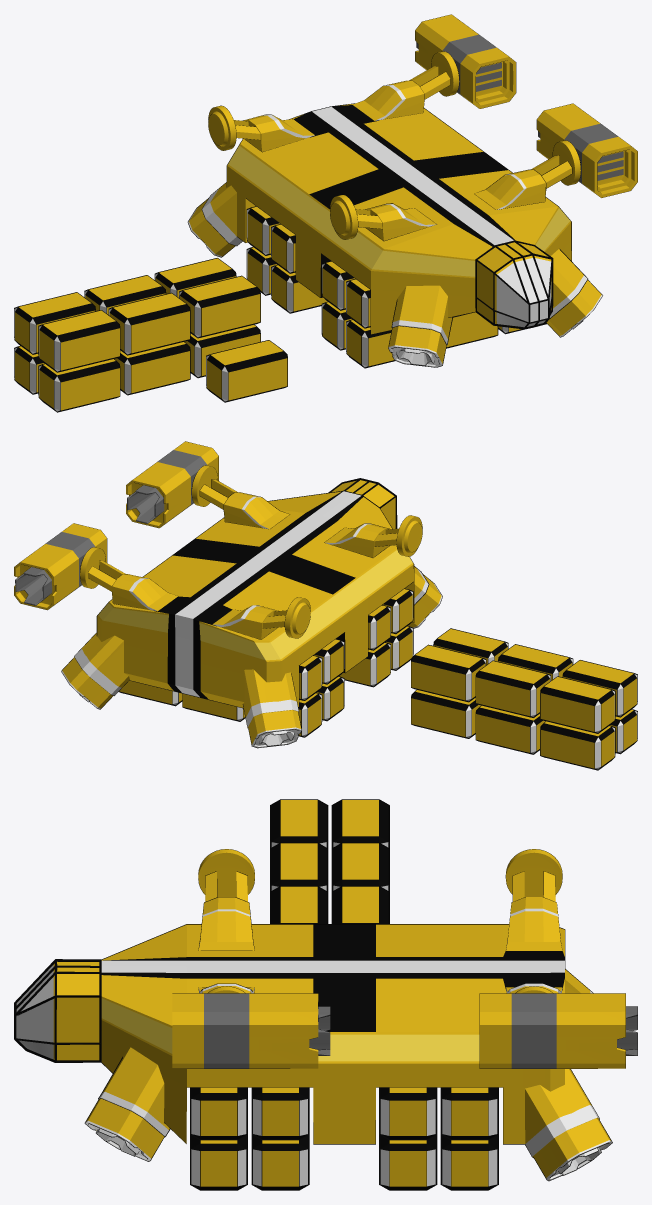
The model's file is CargoShip.fbx.
3 views of the same model, one above another, from view 1: azimuth 30°, elevation 25°; view 2: azimuth 150°, elevation 25°; view 3: azimuth 270°, elevation 25° (orthographic). The views are drawn at different scales.
Parts seen in each view (by area): view 1: MainBody, Cargo 1.002, Cargo2, Cube.010, Cube.009, Cockpit, Rear Thrust Connector, Front Thrust Connector, Cargo 1.001, Front Exhaust, Front Body Thruster, CockPit Cage (+4 smaller); view 2: MainBody, Cargo 1.002, Cargo2, Cube.010, Cube.009, Rear Exhaust, Front Thrust Connector, Rear Thrust Connector, Rear Body Thruster, Cylinder.002, Cylinder.001, Cockpit (+1 smaller); view 3: MainBody, Cargo2, Cargo 1.002, Cube.010, Cube.009, Cockpit, Rear Exhaust, Rear Thrust Connector, Front Thrust Connector, Front Exhaust, Front Body Thruster, Rear Body Thruster (+3 smaller).
Part boxes in pixels (x1,y1,x2,y2): MainBody: (226,103,571,334); Cargo 1.002: (14,258,260,412); Cargo2: (246,206,546,368); Cube.010: (415,14,516,108); Cube.009: (536,103,637,197); Cockpit: (477,242,551,327); Rear Thrust Connector: (234,66,450,152); Front Thrust Connector: (355,155,572,241); Cargo 1.001: (206,340,287,402); Front Exhaust: (391,249,587,344); Front Body Thruster: (388,280,602,367); CockPit Cage: (475,240,553,329); MainBody: (96,491,414,708); Cargo 1.002: (411,628,637,770); Cargo2: (119,588,413,737); Cube.010: (14,523,107,610); Cube.009: (126,441,218,528); Rear Exhaust: (74,633,298,728); Front Thrust Connector: (199,479,398,557); Rear Thrust Connector: (88,560,287,639); Rear Body Thruster: (61,657,301,748); Cylinder.002: (191,465,422,556); Cylinder.001: (80,547,310,638); Cockpit: (331,480,395,528); MainBody: (101,924,565,1144); Cargo2: (190,1087,498,1190); Cargo 1.002: (270,799,389,923); Cube.010: (479,993,637,1068); Cube.009: (172,993,330,1068); Cockpit: (16,961,99,1060); Rear Exhaust: (525,969,599,1157); Rear Thrust Connector: (506,871,562,993); Front Thrust Connector: (198,871,254,993); Front Exhaust: (98,1047,170,1137); Front Body Thruster: (84,1098,164,1161); Rear Body Thruster: (533,1118,612,1181).
Size of the model in its own units: 2506 by 746 by 1978.
